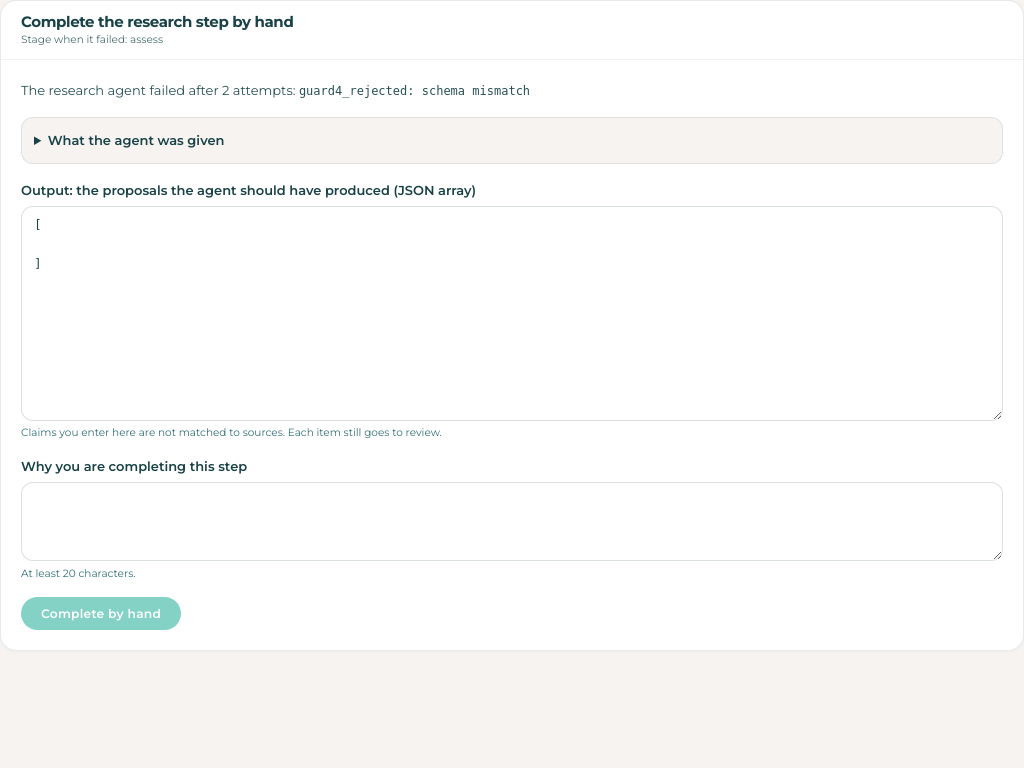
Test: the Complete by hand control › keeps the button off until the reason has 20 characters
expect the button "Complete by hand" is disabled: met, box [21,596,181,630]
Type "too short" into the text box labelled "Why you are completing this step" at {"x": 512, "y": 522}, box [21,482,1003,561]
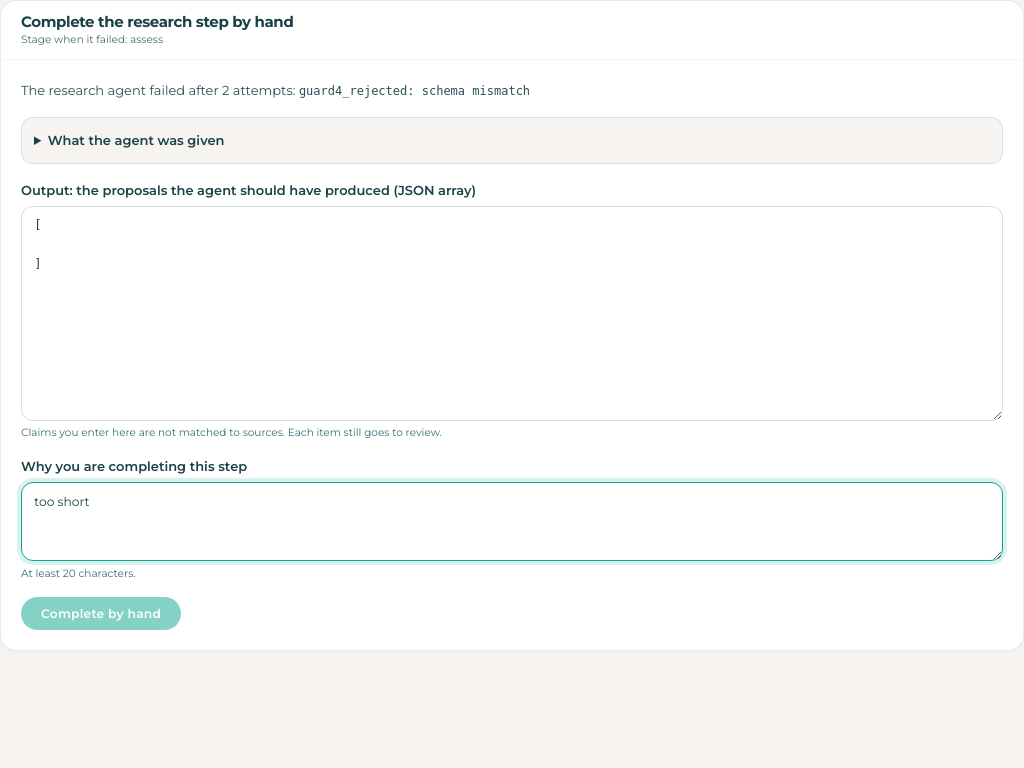
expect the button "Complete by hand" is disabled: met, box [21,596,181,630]
Type " and now it is long enough" into the text box labelled "Why you are completing this step" at {"x": 512, "y": 522}, box [21,482,1003,561]
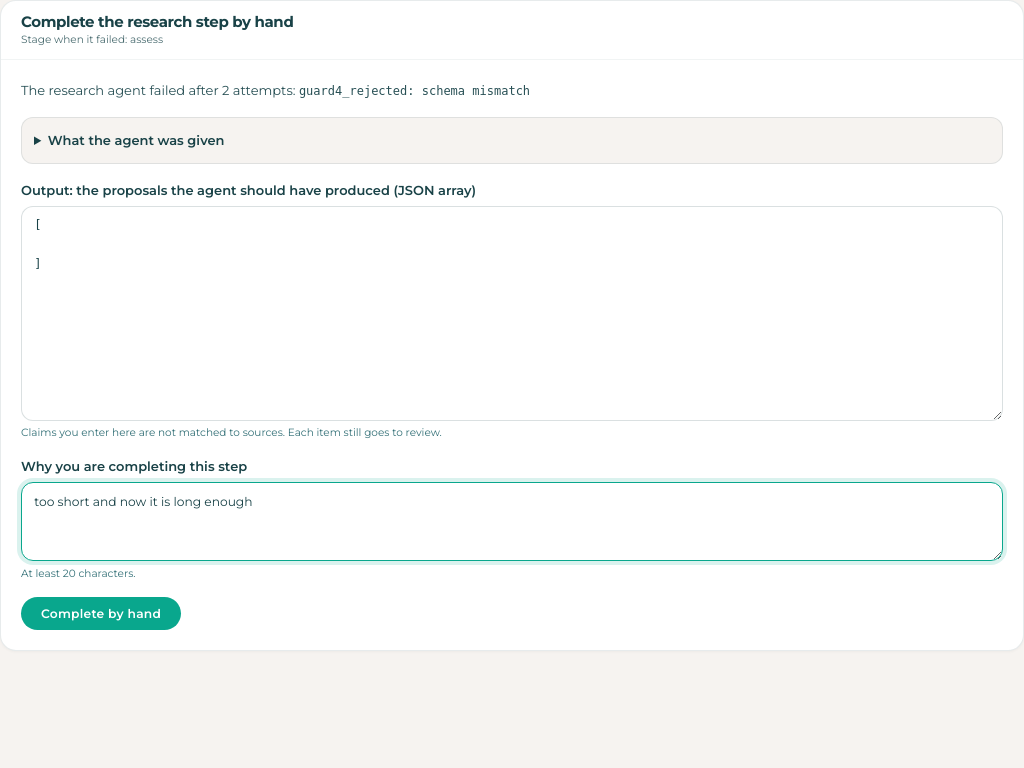
expect the button "Complete by hand" is enabled: met, box [21,596,181,630]
